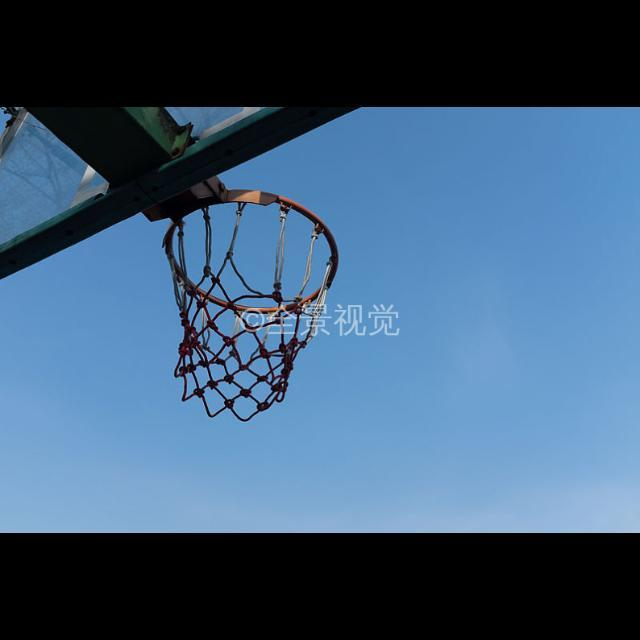rim: (165, 192, 339, 422)
